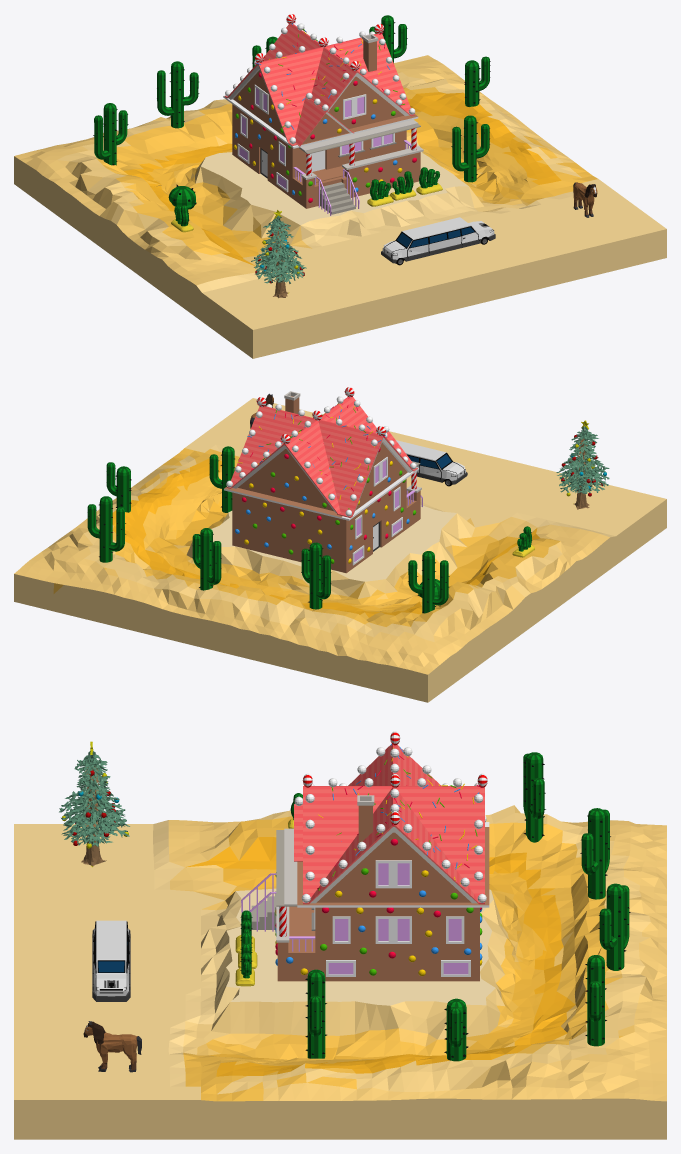
The picture shows the model from 3 angles, top to bottom: view 1: azimuth 30°, elevation 25°; view 2: azimuth 150°, elevation 25°; view 3: azimuth 270°, elevation 25°; orthographic projection. The views are drawn at different scales.
Parts seen in each view (by area): view 1: Cube.001, Cube.1203, VEHICLES_LIMOUSINE, OBJRANDOM_CHRISTMAS_TREE, Cylinder.044, Cylinder.037, Cylinder.045, Cylinder.038, Cylinder.042, ANIMAL_CABALLO, Cylinder.039, Cylinder.041; view 2: Cube.001, Cube.1203, OBJRANDOM_CHRISTMAS_TREE, Cylinder.042, VEHICLES_LIMOUSINE, Cylinder.045, Cylinder.044, Cylinder.043, Cylinder.037, Cylinder.038; view 3: Cube.001, Cube.1203, OBJRANDOM_CHRISTMAS_TREE, VEHICLES_LIMOUSINE, Cylinder.043, Cylinder.044, Cylinder.045, Cylinder.037, Cylinder.042, ANIMAL_CABALLO, Cylinder.038, Cylinder.041.
Part boxes in pixels (x1,y1,x2,y2): Cube.001: [14, 55, 666, 358]; Cube.1203: [223, 14, 423, 215]; VEHICLES_LIMOUSINE: [381, 217, 495, 265]; OBJRANDOM_CHRISTMAS_TREE: [251, 210, 306, 298]; Cylinder.044: [157, 61, 199, 128]; Cylinder.037: [451, 115, 489, 182]; Cylinder.045: [93, 103, 128, 165]; Cylinder.038: [464, 56, 490, 106]; Cylinder.042: [369, 15, 407, 63]; ANIMAL_CABALLO: [573, 182, 597, 217]; Cylinder.039: [367, 179, 393, 206]; Cylinder.041: [416, 167, 442, 194]; Cube.001: [14, 398, 666, 702]; Cube.1203: [224, 387, 422, 573]; OBJRANDOM_CHRISTMAS_TREE: [556, 420, 609, 509]; Cylinder.042: [87, 496, 125, 562]; VEHICLES_LIMOUSINE: [396, 440, 467, 486]; Cylinder.045: [408, 551, 449, 613]; Cylinder.044: [301, 542, 331, 609]; Cylinder.043: [192, 528, 221, 590]; Cylinder.037: [209, 446, 239, 512]; Cylinder.038: [106, 462, 131, 512]; Cube.001: [14, 805, 666, 1139]; Cube.1203: [241, 731, 489, 981]; OBJRANDOM_CHRISTMAS_TREE: [59, 741, 129, 867]; VEHICLES_LIMOUSINE: [92, 920, 130, 1001]; Cylinder.043: [598, 883, 630, 970]; Cylinder.044: [580, 808, 610, 899]; Cylinder.045: [523, 752, 545, 842]; Cylinder.037: [305, 969, 326, 1058]; Cylinder.042: [585, 955, 606, 1046]; ANIMAL_CABALLO: [83, 1021, 141, 1072]; Cylinder.038: [444, 998, 468, 1061]; Cylinder.041: [235, 943, 254, 986].
Size of the model in its own units: 4002 by 1636 by 4001.
42 materials, 3 textured.
